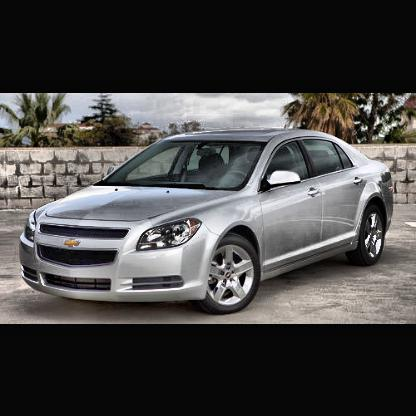Chevrolet Malibu Hybrid Sedan 2010: (19, 132, 397, 315)
